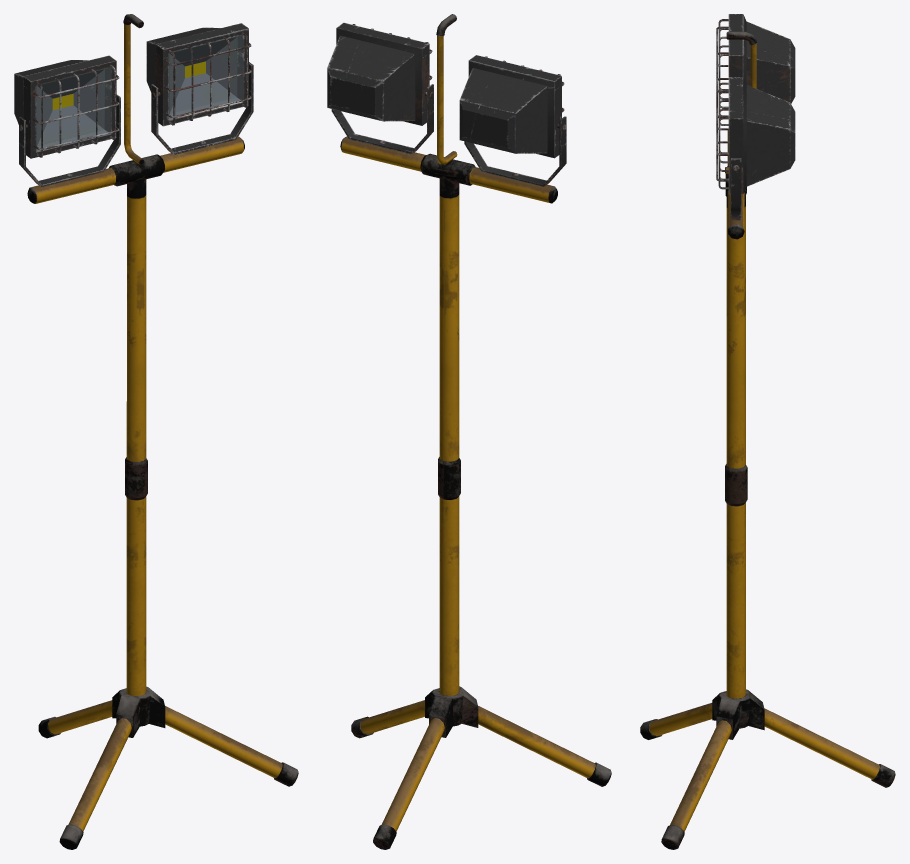
The model's file is ayakli_projektor.gltf.
The picture shows the model from 3 angles, left to right: view 1: azimuth 30°, elevation 25°; view 2: azimuth 150°, elevation 25°; view 3: azimuth 270°, elevation 25°; orthographic projection.
Visible parts, largest first — view 1: ayakli_projektor; view 2: ayakli_projektor; view 3: ayakli_projektor.
Part boxes in pixels (x1,y1,x2,y2): ayakli_projektor: [14, 14, 298, 849]; ayakli_projektor: [327, 14, 611, 849]; ayakli_projektor: [640, 14, 895, 849].
Size of what is drawn, in the model's own units: 0.5353 by 1.6 by 0.4873.
Materials: 1 (1 with a texture image).
